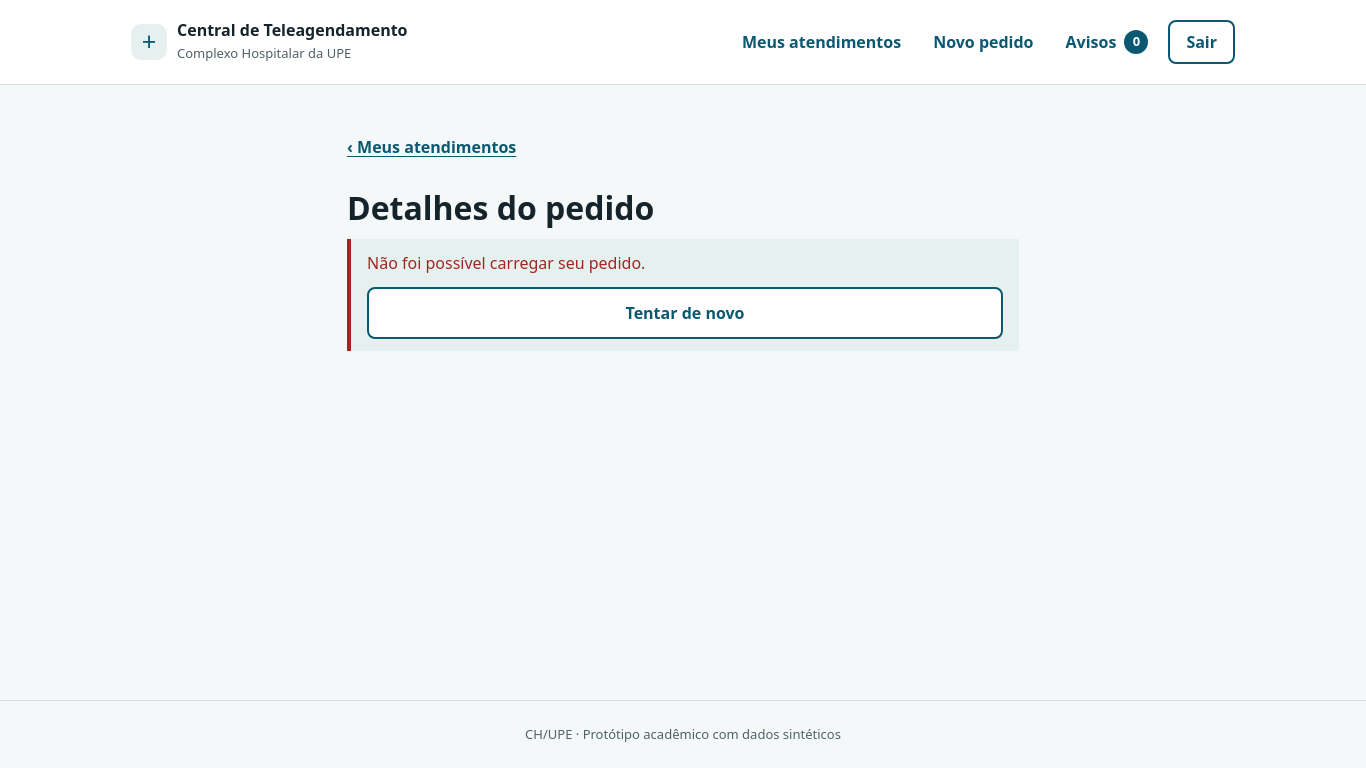
Test case: UC-002/RN-007 — detalhe do pedido › erro de leitura permite nova tentativa
Expected: the message "Não foi possível carregar seu pedido. Tentar de novo" is shown, x1=347 y1=239 x2=1019 y2=351
Click the button "Tentar de novo".
click(685, 313)  # box x1=367 y1=287 x2=1003 y2=339
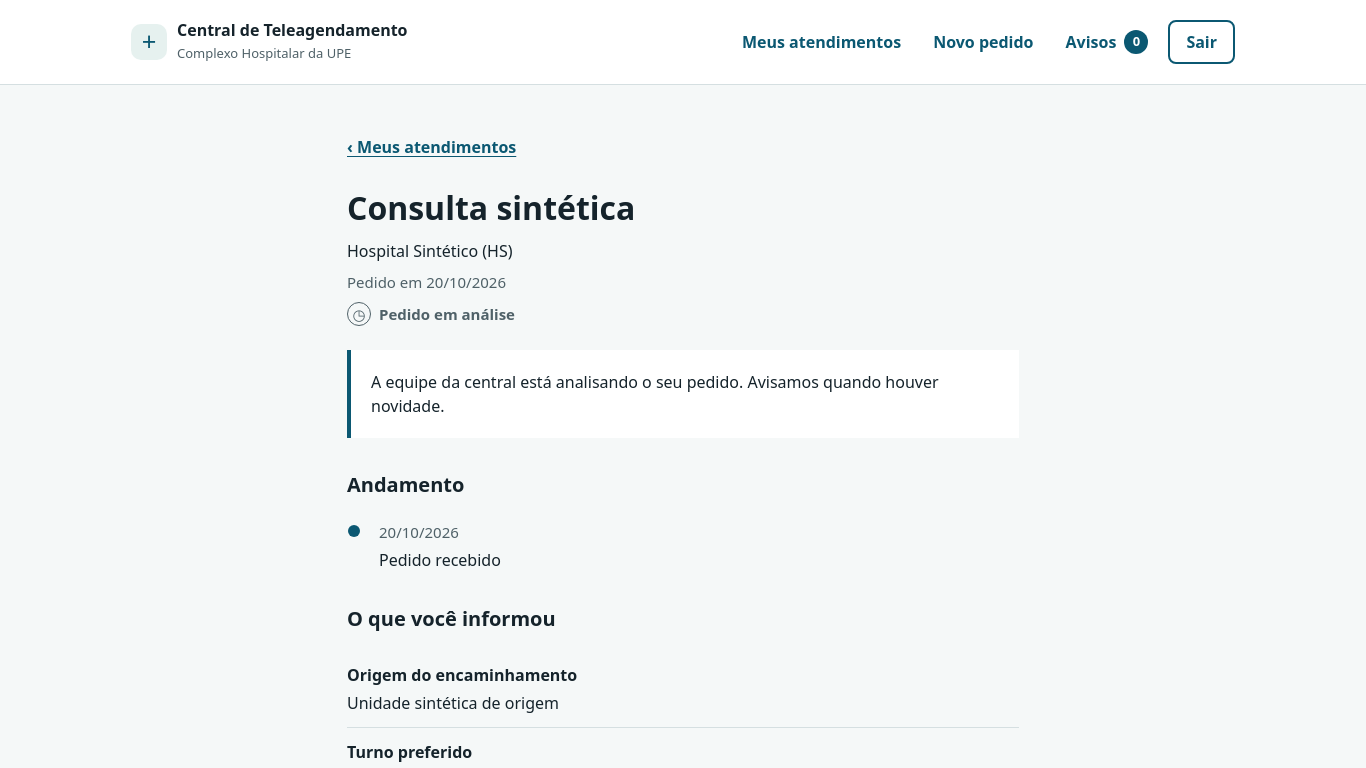
Expected: the heading "Consulta sintética" is shown, x1=347 y1=186 x2=635 y2=229
